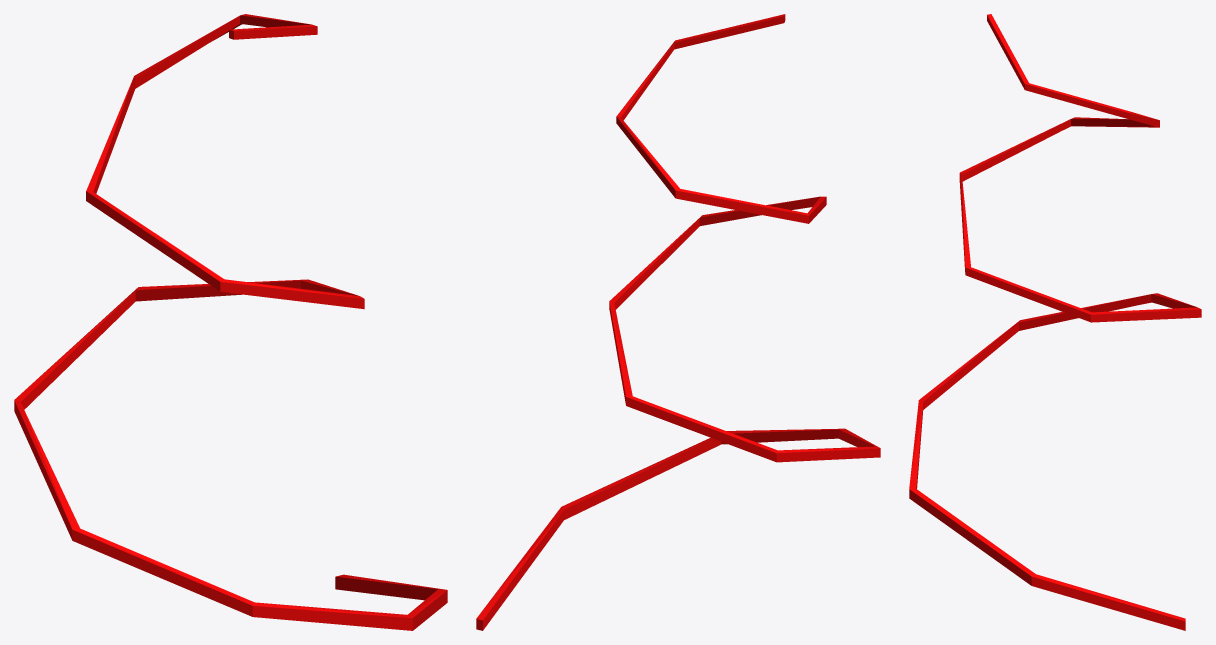
File: Prop_Christmas_Tree_Tinsel_Red_01.FBX
The picture shows the model from 3 angles, left to right: view 1: azimuth 30°, elevation 25°; view 2: azimuth 150°, elevation 25°; view 3: azimuth 270°, elevation 25°; orthographic projection. The views are drawn at different scales.
Visible parts, largest first — view 1: Prop_Christmas_Tree_Tinsel_Red_01; view 2: Prop_Christmas_Tree_Tinsel_Red_01; view 3: Prop_Christmas_Tree_Tinsel_Red_01.
Part boxes in pixels (x1,y1,x2,y2): Prop_Christmas_Tree_Tinsel_Red_01: [14, 14, 447, 630]; Prop_Christmas_Tree_Tinsel_Red_01: [476, 14, 880, 630]; Prop_Christmas_Tree_Tinsel_Red_01: [909, 14, 1201, 630].
Size of the model in its own units: 1310 by 2332 by 1171.
